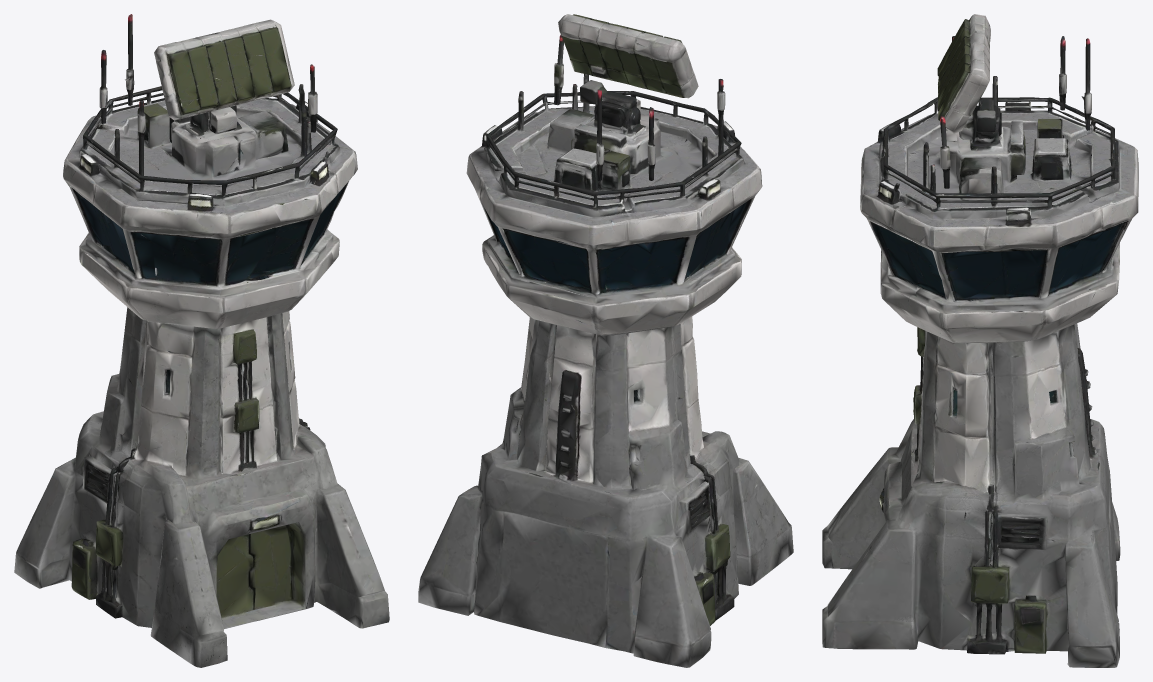
Rendered from radar-tower.glb.
3 renders of one model, left to right at view 1: azimuth 30°, elevation 25°; view 2: azimuth 150°, elevation 25°; view 3: azimuth 270°, elevation 25°, orthographic.
Bounding box in the file's own units: 0.9747 × 1.9 × 0.9747.
Materials: 1 (1 with a texture image).
